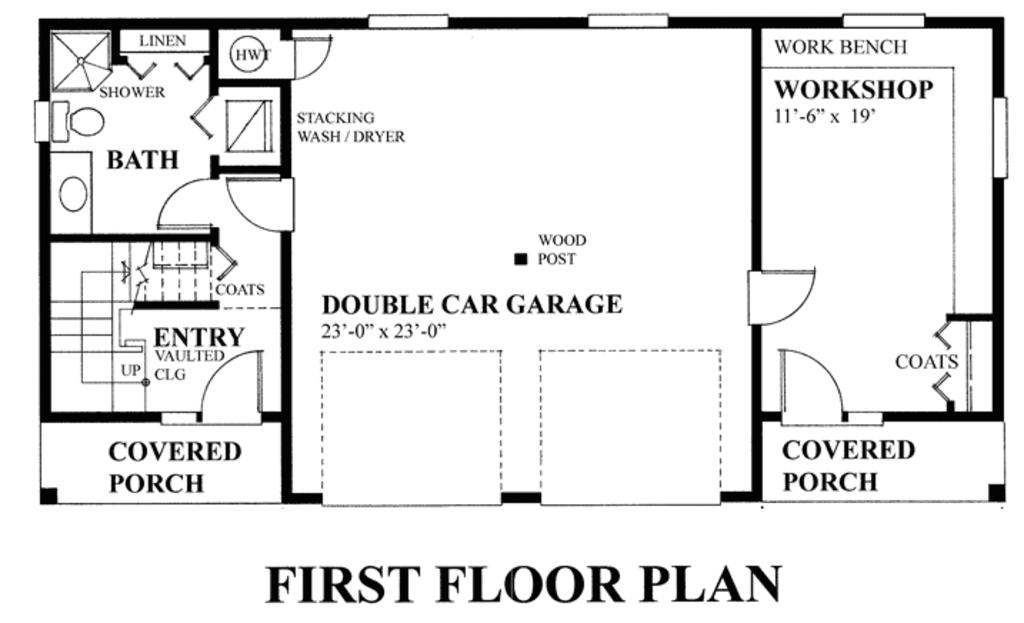door: (769, 340, 855, 426), (744, 261, 834, 334), (199, 343, 267, 431), (221, 175, 300, 230), (153, 180, 221, 231), (296, 33, 339, 80)
large_sink: (32, 96, 114, 151)
small_sink: (48, 155, 98, 233)
stairs: (53, 236, 210, 414)
window: (364, 11, 458, 32), (581, 10, 671, 28), (834, 12, 927, 29), (995, 94, 1009, 187)
